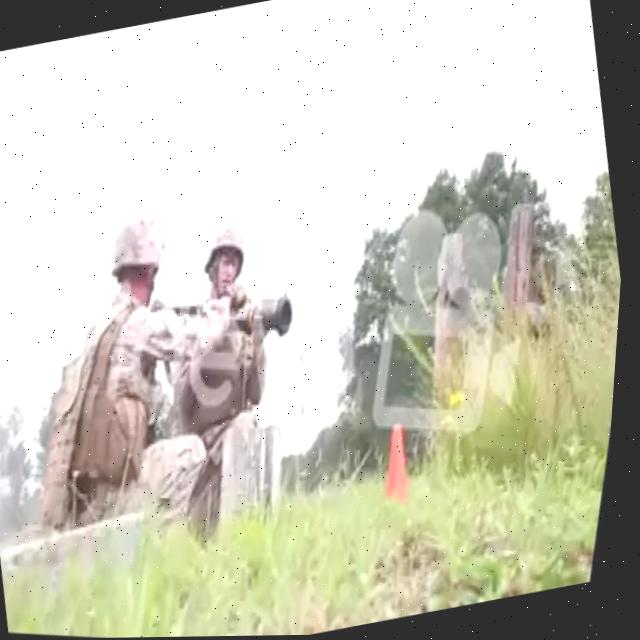rocket: (233, 286, 308, 346)
